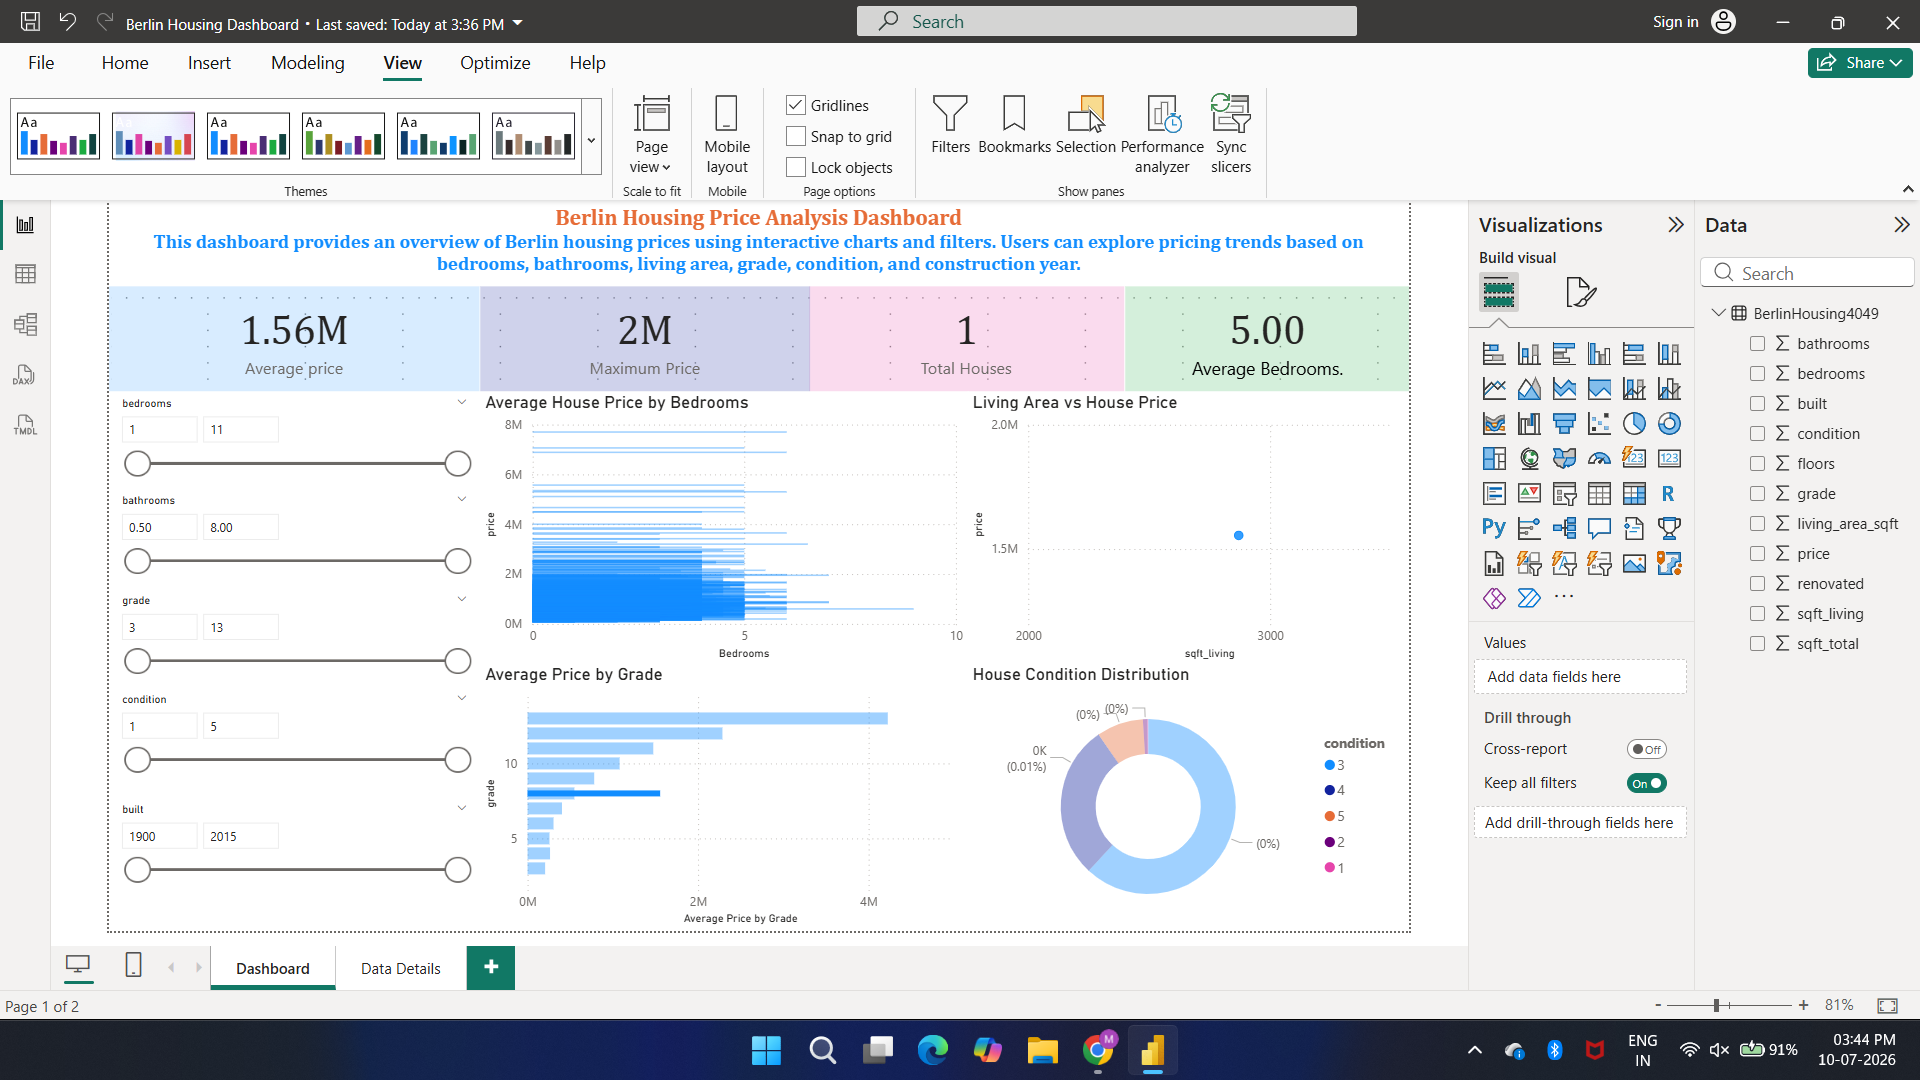

The page's visual inventory and layout, read from the dashboard file:
{"tool":"powerbi","page":{"name":"Dashboard","canvas":[1280,720],"ordinal":0},"visuals":[{"type":"card","fields":{"Values":["Avg(BerlinHousing4049.bedrooms)"]},"box":[1000,84.4,280.5,103.9],"z":0},{"type":"card","fields":{"Values":["CountNonNull(BerlinHousing4049.price)"]},"box":[689.6,84.4,310.4,103.9],"z":1000},{"type":"card","fields":{"Values":["Max(BerlinHousing4049.price)"]},"box":[364.9,84.4,324.7,103.9],"z":2000},{"type":"card","fields":{"Values":["Avg(BerlinHousing4049.price)"]},"box":[0,84.4,364.9,103.9],"z":3000},{"type":"clusteredBarChart","title":"Average House Price by Bedrooms","fields":{"Category":["BerlinHousing4049.price"],"Y":["Avg(BerlinHousing4049.bedrooms)"]},"box":[364.9,188.3,480.5,268.8],"z":4000},{"type":"scatterChart","title":"Living Area vs House Price","fields":{"X":["Sum(BerlinHousing4049.sqft_living)"],"Y":["Sum(BerlinHousing4049.price)"]},"box":[845.5,188.3,435.1,268.8],"z":5000},{"type":"clusteredBarChart","title":"Average Price by Grade","fields":{"Category":["BerlinHousing4049.grade"],"Y":["Avg(BerlinHousing4049.price)"]},"box":[364.9,457.1,480.5,262.3],"z":6000},{"type":"donutChart","title":"House Condition Distribution","fields":{"Category":["BerlinHousing4049.condition"],"Y":["CountNonNull(BerlinHousing4049.condition)"]},"box":[845.5,457.1,433.8,262.3],"z":7000},{"type":"slicer","fields":{"Values":["BerlinHousing4049.bedrooms"]},"box":[0,188.3,364.9,96.1],"z":8000},{"type":"slicer","fields":{"Values":["BerlinHousing4049.bathrooms"]},"box":[0,284.4,364.9,98.7],"z":9000},{"type":"slicer","fields":{"Values":["BerlinHousing4049.grade"]},"box":[0,383.1,364.9,97.4],"z":10000},{"type":"slicer","fields":{"Values":["BerlinHousing4049.condition"]},"box":[0,480.5,364.9,107.8],"z":11000},{"type":"slicer","fields":{"Values":["BerlinHousing4049.built"]},"box":[0,588.3,364.9,131.2],"z":12000},{"type":"textbox","box":[0,0,1279.2,84.4],"z":13000}]}

Visuals, with their boxes on the page's 1280x720 design canvas (x1, y1, x2, y2). These are canvas units, not pixel positions in the 1920x1080 screenshot, which may show the page scaled, cropped or inside an application window:
card - Avg(BerlinHousing4049.bedrooms): bbox(1000, 84, 1280, 188)
card - CountNonNull(BerlinHousing4049.price): bbox(690, 84, 1000, 188)
card - Max(BerlinHousing4049.price): bbox(365, 84, 690, 188)
card - Avg(BerlinHousing4049.price): bbox(0, 84, 365, 188)
"Average House Price by Bedrooms" clusteredBarChart: bbox(365, 188, 845, 457)
"Living Area vs House Price" scatterChart: bbox(846, 188, 1281, 457)
"Average Price by Grade" clusteredBarChart: bbox(365, 457, 845, 719)
"House Condition Distribution" donutChart: bbox(846, 457, 1279, 719)
slicer - BerlinHousing4049.bedrooms: bbox(0, 188, 365, 284)
slicer - BerlinHousing4049.bathrooms: bbox(0, 284, 365, 383)
slicer - BerlinHousing4049.grade: bbox(0, 383, 365, 480)
slicer - BerlinHousing4049.condition: bbox(0, 480, 365, 588)
slicer - BerlinHousing4049.built: bbox(0, 588, 365, 720)
textbox: bbox(0, 0, 1279, 84)
